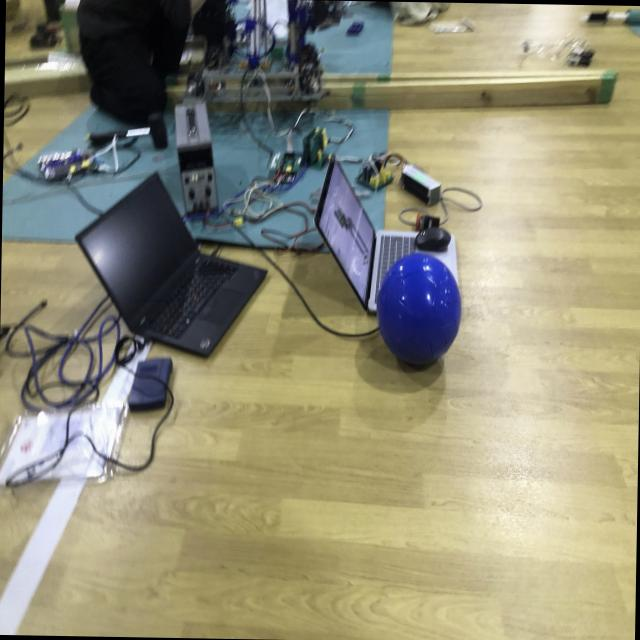blue_ball: (375, 252, 463, 364)
